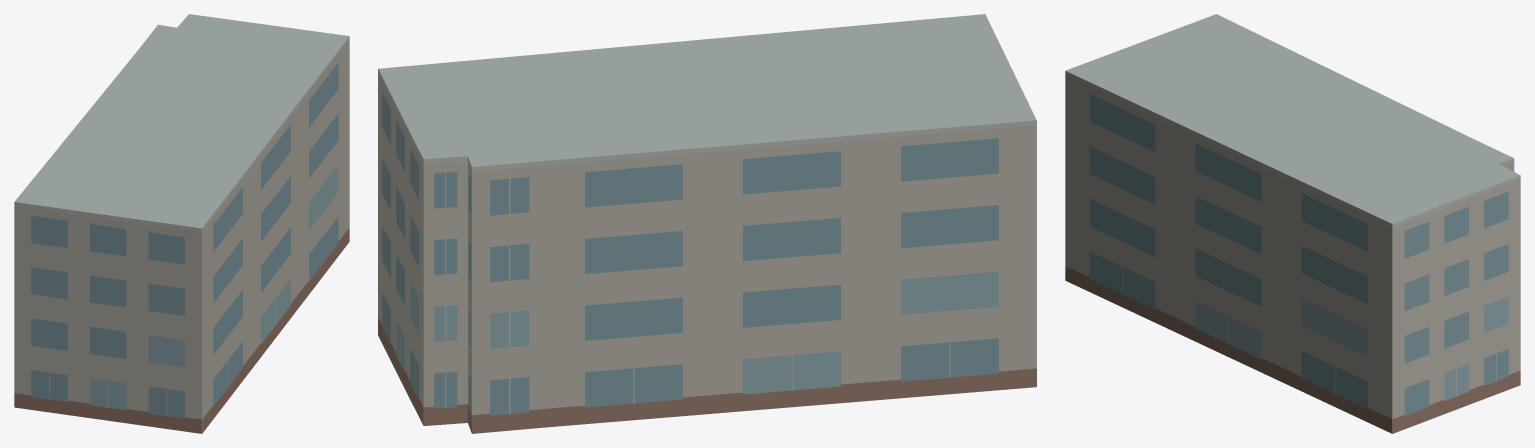
File: survey-upis-32601481.glb
The picture shows the model from 3 angles, left to right: view 1: azimuth 30°, elevation 25°; view 2: azimuth 150°, elevation 25°; view 3: azimuth 270°, elevation 25°; orthographic projection. The views are drawn at different scales.
Parts seen in each view (by area): view 1: survey-upis-32601481.tmp; view 2: survey-upis-32601481.tmp; view 3: survey-upis-32601481.tmp.
Boxes of the visible parts, left/top/right/bottom form: survey-upis-32601481.tmp: left=14, top=14, right=349, bottom=433; survey-upis-32601481.tmp: left=378, top=14, right=1036, bottom=433; survey-upis-32601481.tmp: left=1065, top=14, right=1520, bottom=433.
Bounding box in the file's own units: 28.12 × 13.1 × 25.77.
